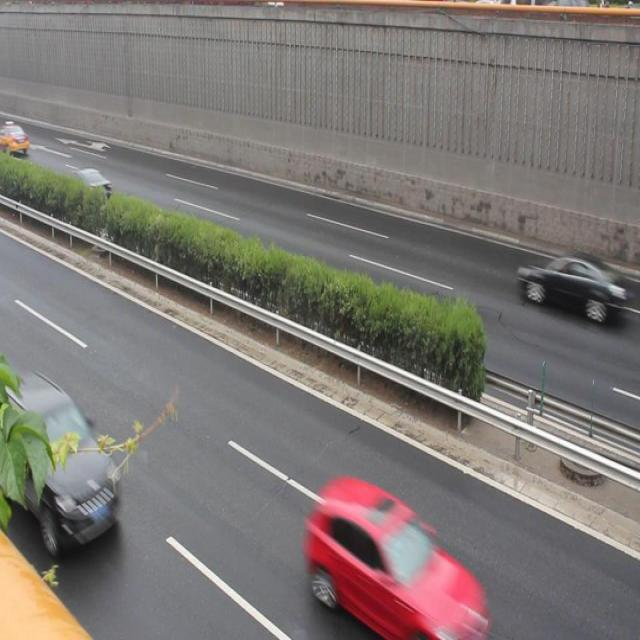car: (302, 467, 482, 640), (0, 369, 124, 551), (515, 246, 629, 338), (63, 164, 111, 208)
